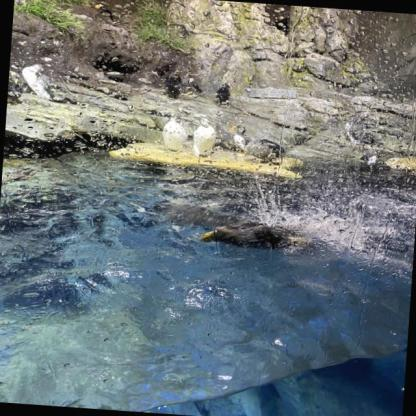puffin: (198, 213, 314, 253), (22, 63, 57, 99), (162, 114, 190, 153), (191, 119, 217, 157), (229, 123, 254, 157), (343, 121, 377, 146), (358, 152, 391, 176), (253, 137, 281, 161), (180, 72, 204, 96), (214, 80, 234, 107), (92, 3, 115, 22), (167, 69, 181, 97)
